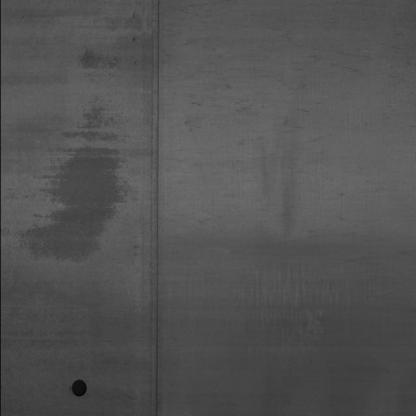oil_spot: (25, 140, 125, 262)
punching_hole: (65, 378, 92, 398)
welding_line: (138, 0, 175, 414)
